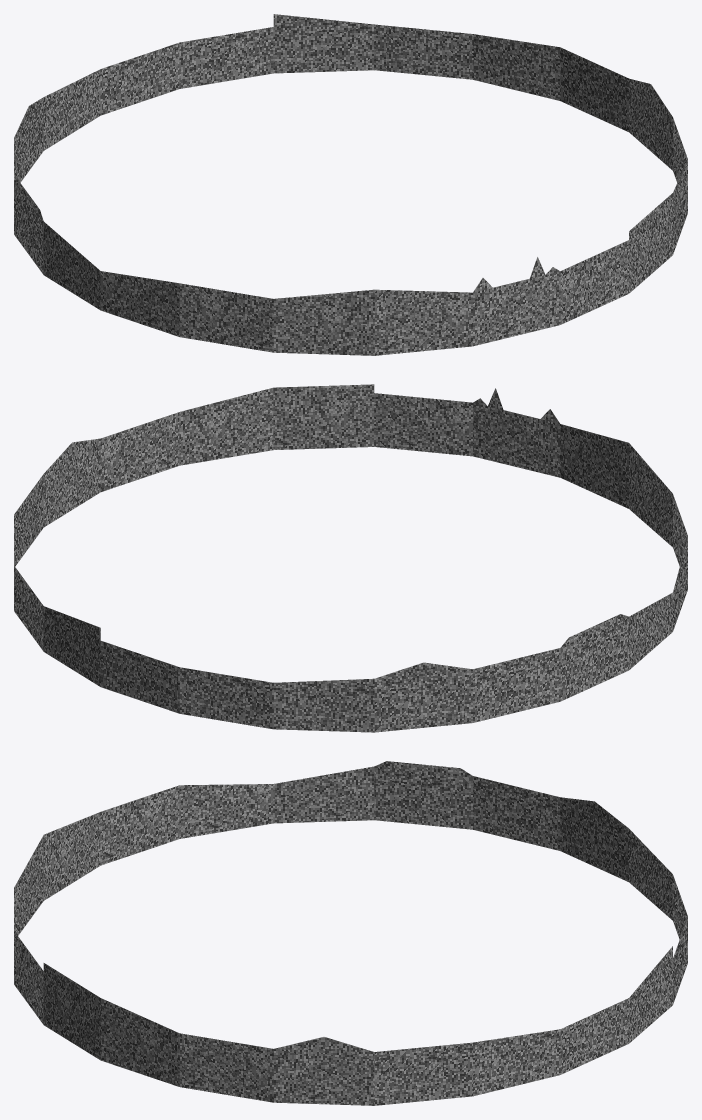
Rendered from landscape_circle_01.gltf.
The picture shows the model from 3 angles, top to bottom: view 1: azimuth 30°, elevation 25°; view 2: azimuth 150°, elevation 25°; view 3: azimuth 270°, elevation 25°; orthographic projection.
Parts seen in each view (by area): view 1: landscape_circle_01; view 2: landscape_circle_01; view 3: landscape_circle_01.
Boxes of the visible parts, x1,y1,x2,y2 form: landscape_circle_01: (14, 14, 687, 355); landscape_circle_01: (14, 384, 687, 732); landscape_circle_01: (14, 761, 687, 1105).
Bounding box in the file's own units: 14.96 × 1.81 × 14.92.
1 material, 1 textured.
